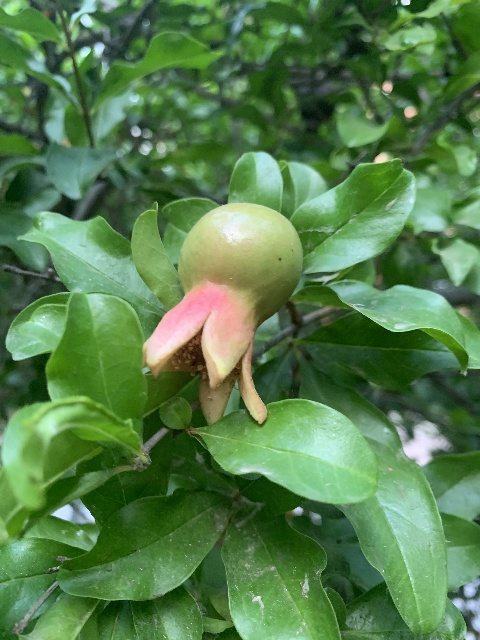mid-growth: (143, 202, 303, 426)
